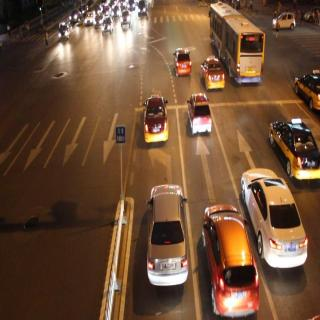BigCar: (208, 2, 266, 90)
Car: (201, 201, 253, 319), (241, 168, 303, 266), (146, 182, 188, 290), (270, 114, 318, 188), (297, 64, 320, 115), (144, 93, 167, 142), (189, 94, 210, 137), (202, 56, 223, 90), (174, 46, 192, 80), (272, 11, 296, 34), (102, 18, 115, 38), (121, 10, 132, 32), (59, 23, 71, 42)
